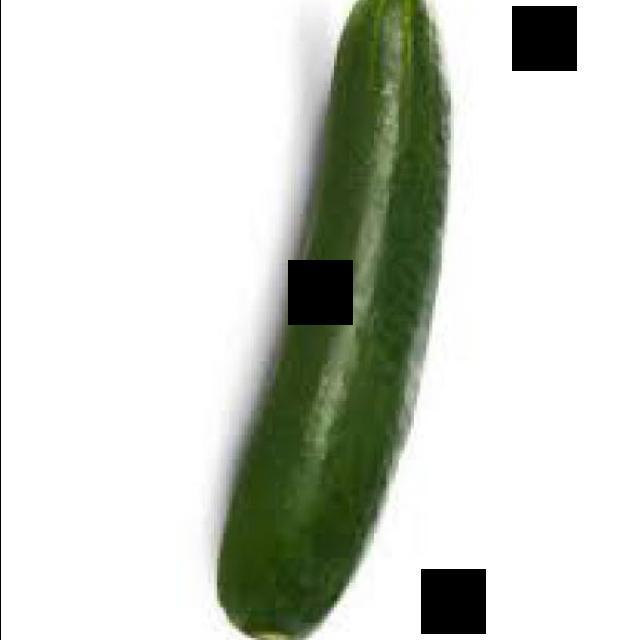cucumber: (206, 0, 468, 640)
